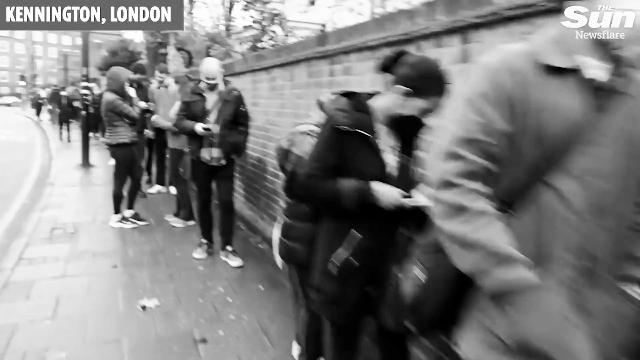berdiri: (170, 46, 248, 278)
